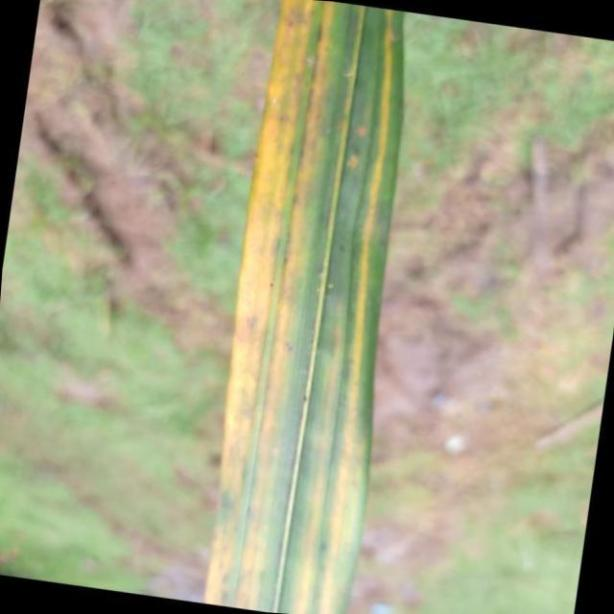Megnesium: (207, 0, 410, 614)
